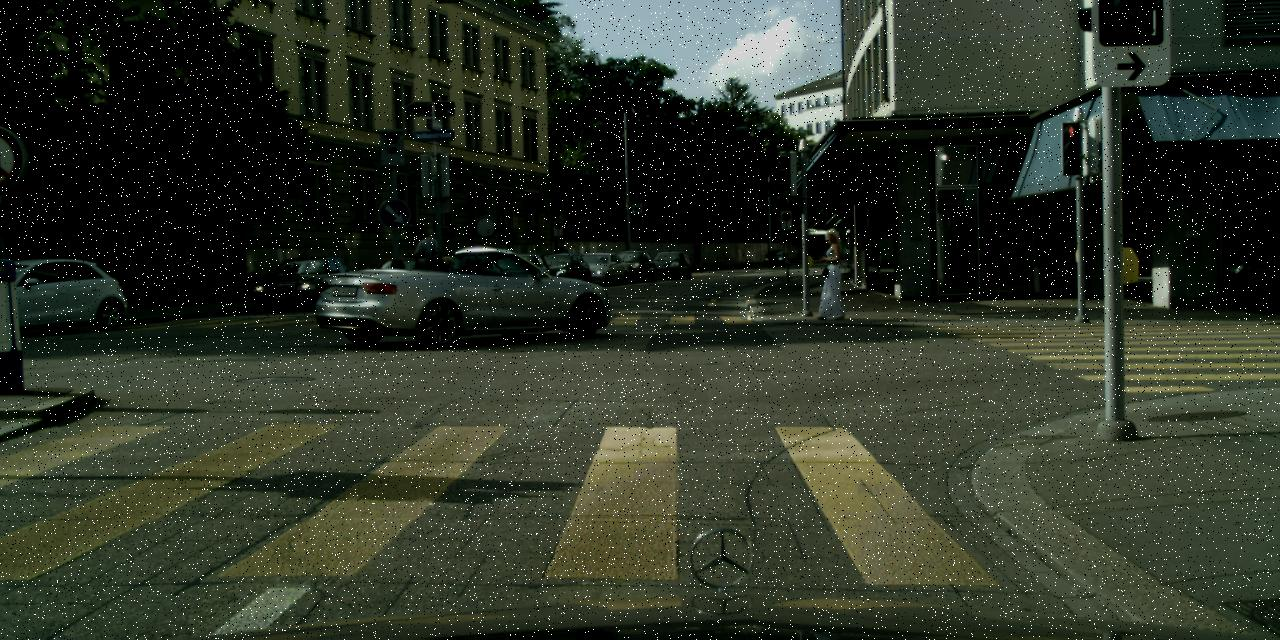ped: (813, 228, 850, 318), (406, 228, 441, 316)
